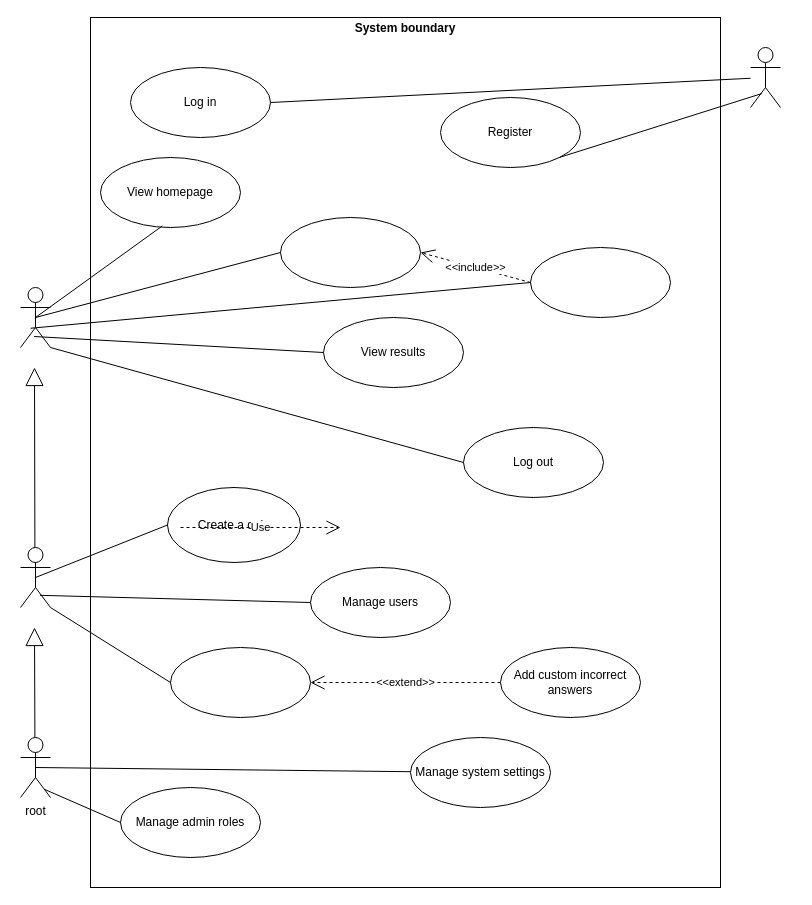
Image size: 812x905. Some labels were removed from this diagram. The centre of each missing label's shape, as x and y in pixels:
"Admin" goes at (35,577).
"Answer questions" goes at (600,282).
"Manage questions" goes at (240,682).
"Select a quiz" goes at (350,252).
"User" goes at (35,317).
"Web visitor" goes at (765,77).
